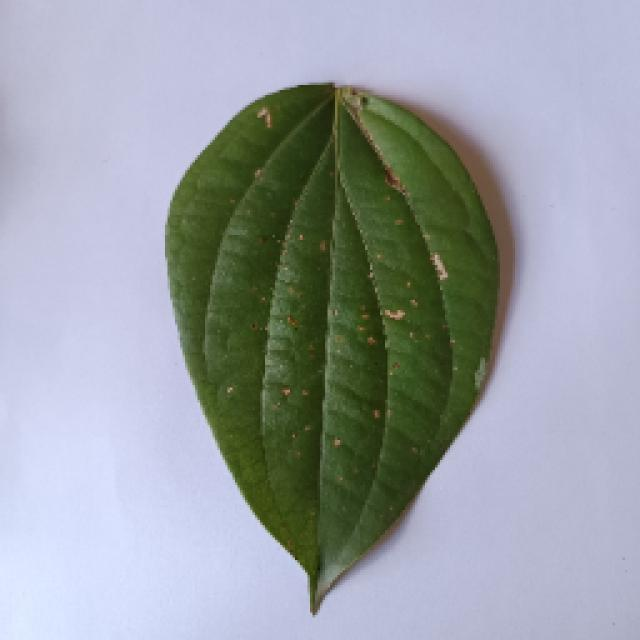pollu-disease: (162, 80, 498, 612)
